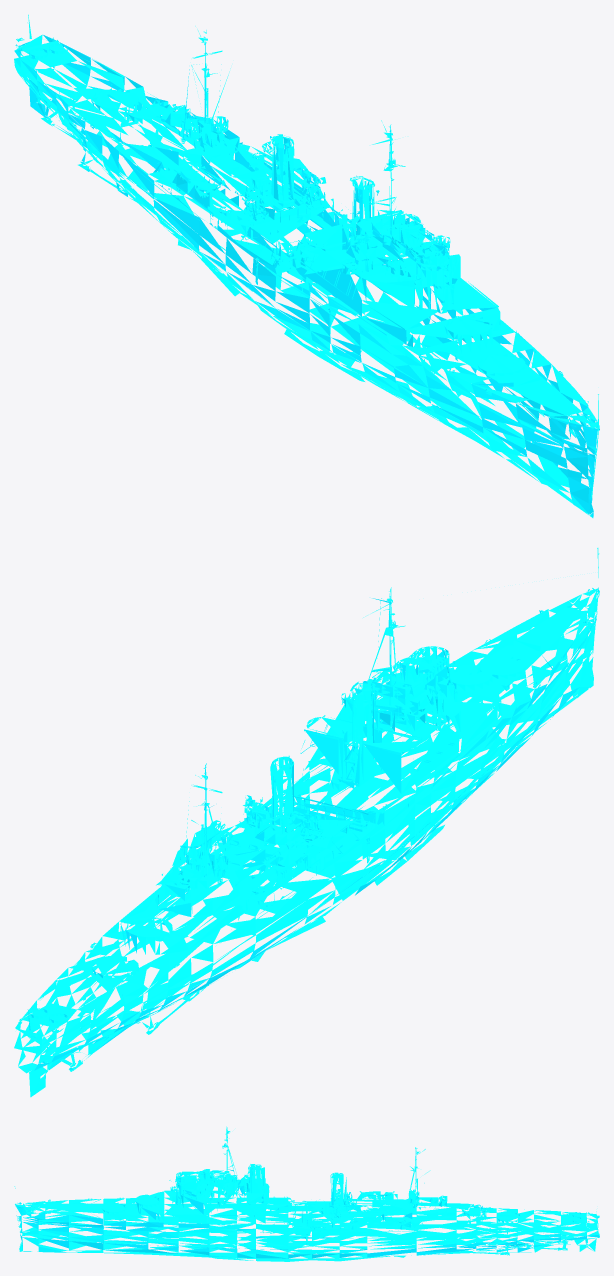
The model's file is Fiji.glb.
3 views of the same model, one above another, from view 1: azimuth 30°, elevation 25°; view 2: azimuth 150°, elevation 25°; view 3: azimuth 270°, elevation 25° (orthographic). The views are drawn at different scales.
Size of the model in its own units: 1.29 by 2.69 by 11.3.
